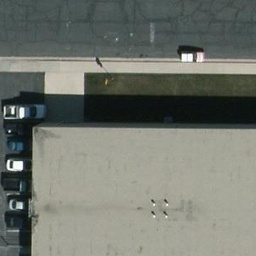car: (4, 100, 48, 122), (7, 158, 33, 174), (5, 137, 31, 153), (4, 175, 30, 191), (180, 50, 204, 65), (9, 197, 32, 212)
